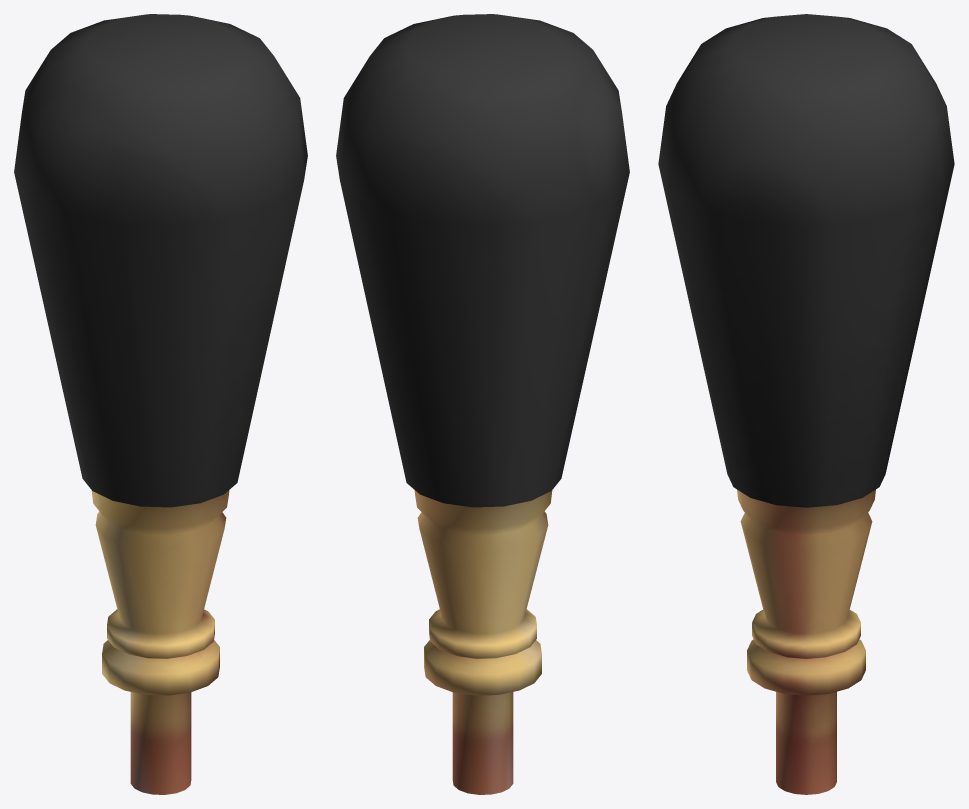
File: CommunityRoomB_DrinkDispenserLever.fbx
3 views of the same model, side by side, from view 1: azimuth 30°, elevation 25°; view 2: azimuth 150°, elevation 25°; view 3: azimuth 270°, elevation 25° (orthographic).
Visible parts, largest first — view 1: CommunityRoomB_DrinkDispenserLever; view 2: CommunityRoomB_DrinkDispenserLever; view 3: CommunityRoomB_DrinkDispenserLever.
Boxes of the visible parts, box(x1,y1,x2,y2) form: CommunityRoomB_DrinkDispenserLever: box(14, 14, 307, 794); CommunityRoomB_DrinkDispenserLever: box(336, 14, 629, 794); CommunityRoomB_DrinkDispenserLever: box(658, 14, 954, 794).
Bounding box in the file's own units: 4.92 × 13.59 × 4.92.
